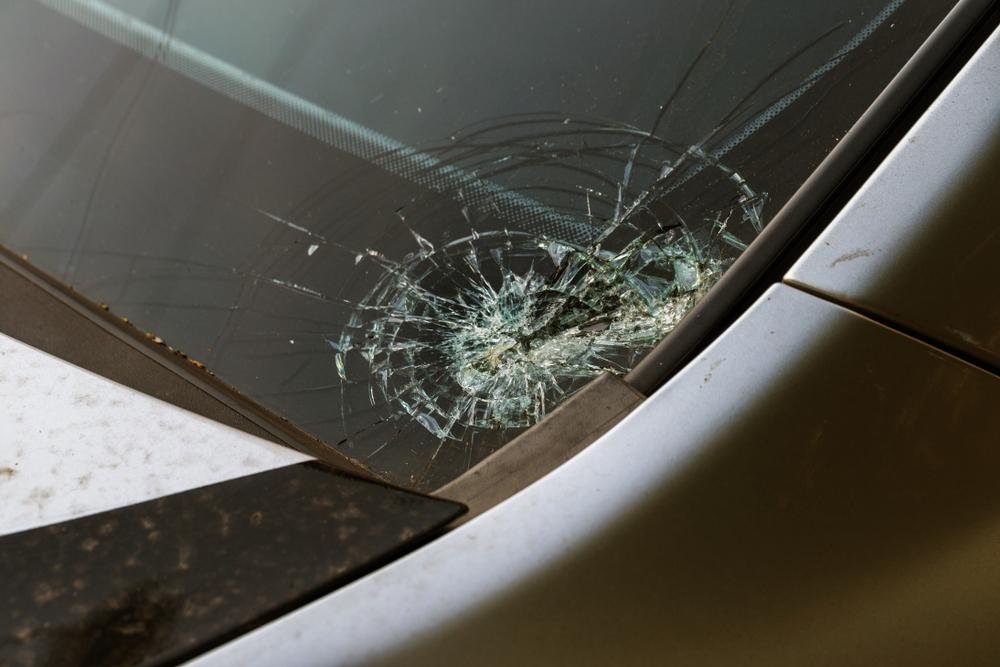glass shatter: (0, 0, 959, 494)
